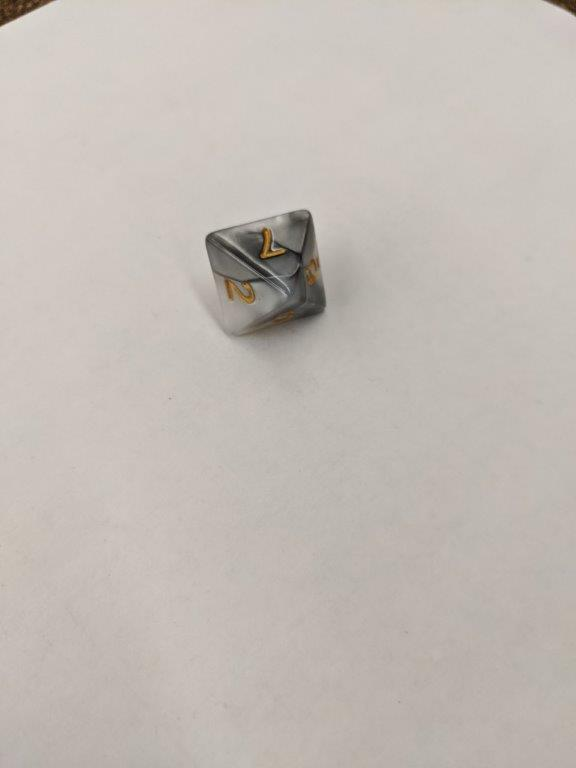d8-7: (204, 208, 330, 337)
